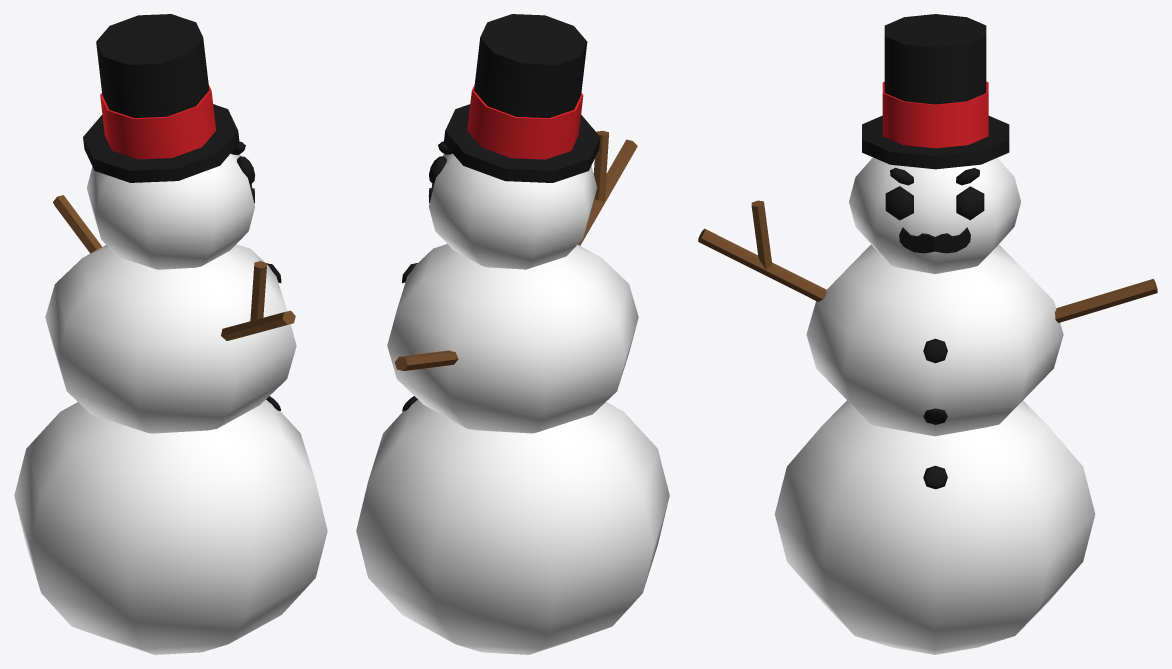
File: MM_Snowman.fbx
The picture shows the model from 3 angles, left to right: view 1: azimuth 30°, elevation 25°; view 2: azimuth 150°, elevation 25°; view 3: azimuth 270°, elevation 25°; orthographic projection.
Parts seen in each view (by area): view 1: MM_Snowman; view 2: MM_Snowman; view 3: MM_Snowman.
Part boxes in pixels (left/top/right/bottom): MM_Snowman: left=14, top=14, right=327, bottom=654; MM_Snowman: left=356, top=14, right=669, bottom=654; MM_Snowman: left=698, top=14, right=1157, bottom=654.
Size of the model in its own units: 69.32 by 144 by 99.32.
